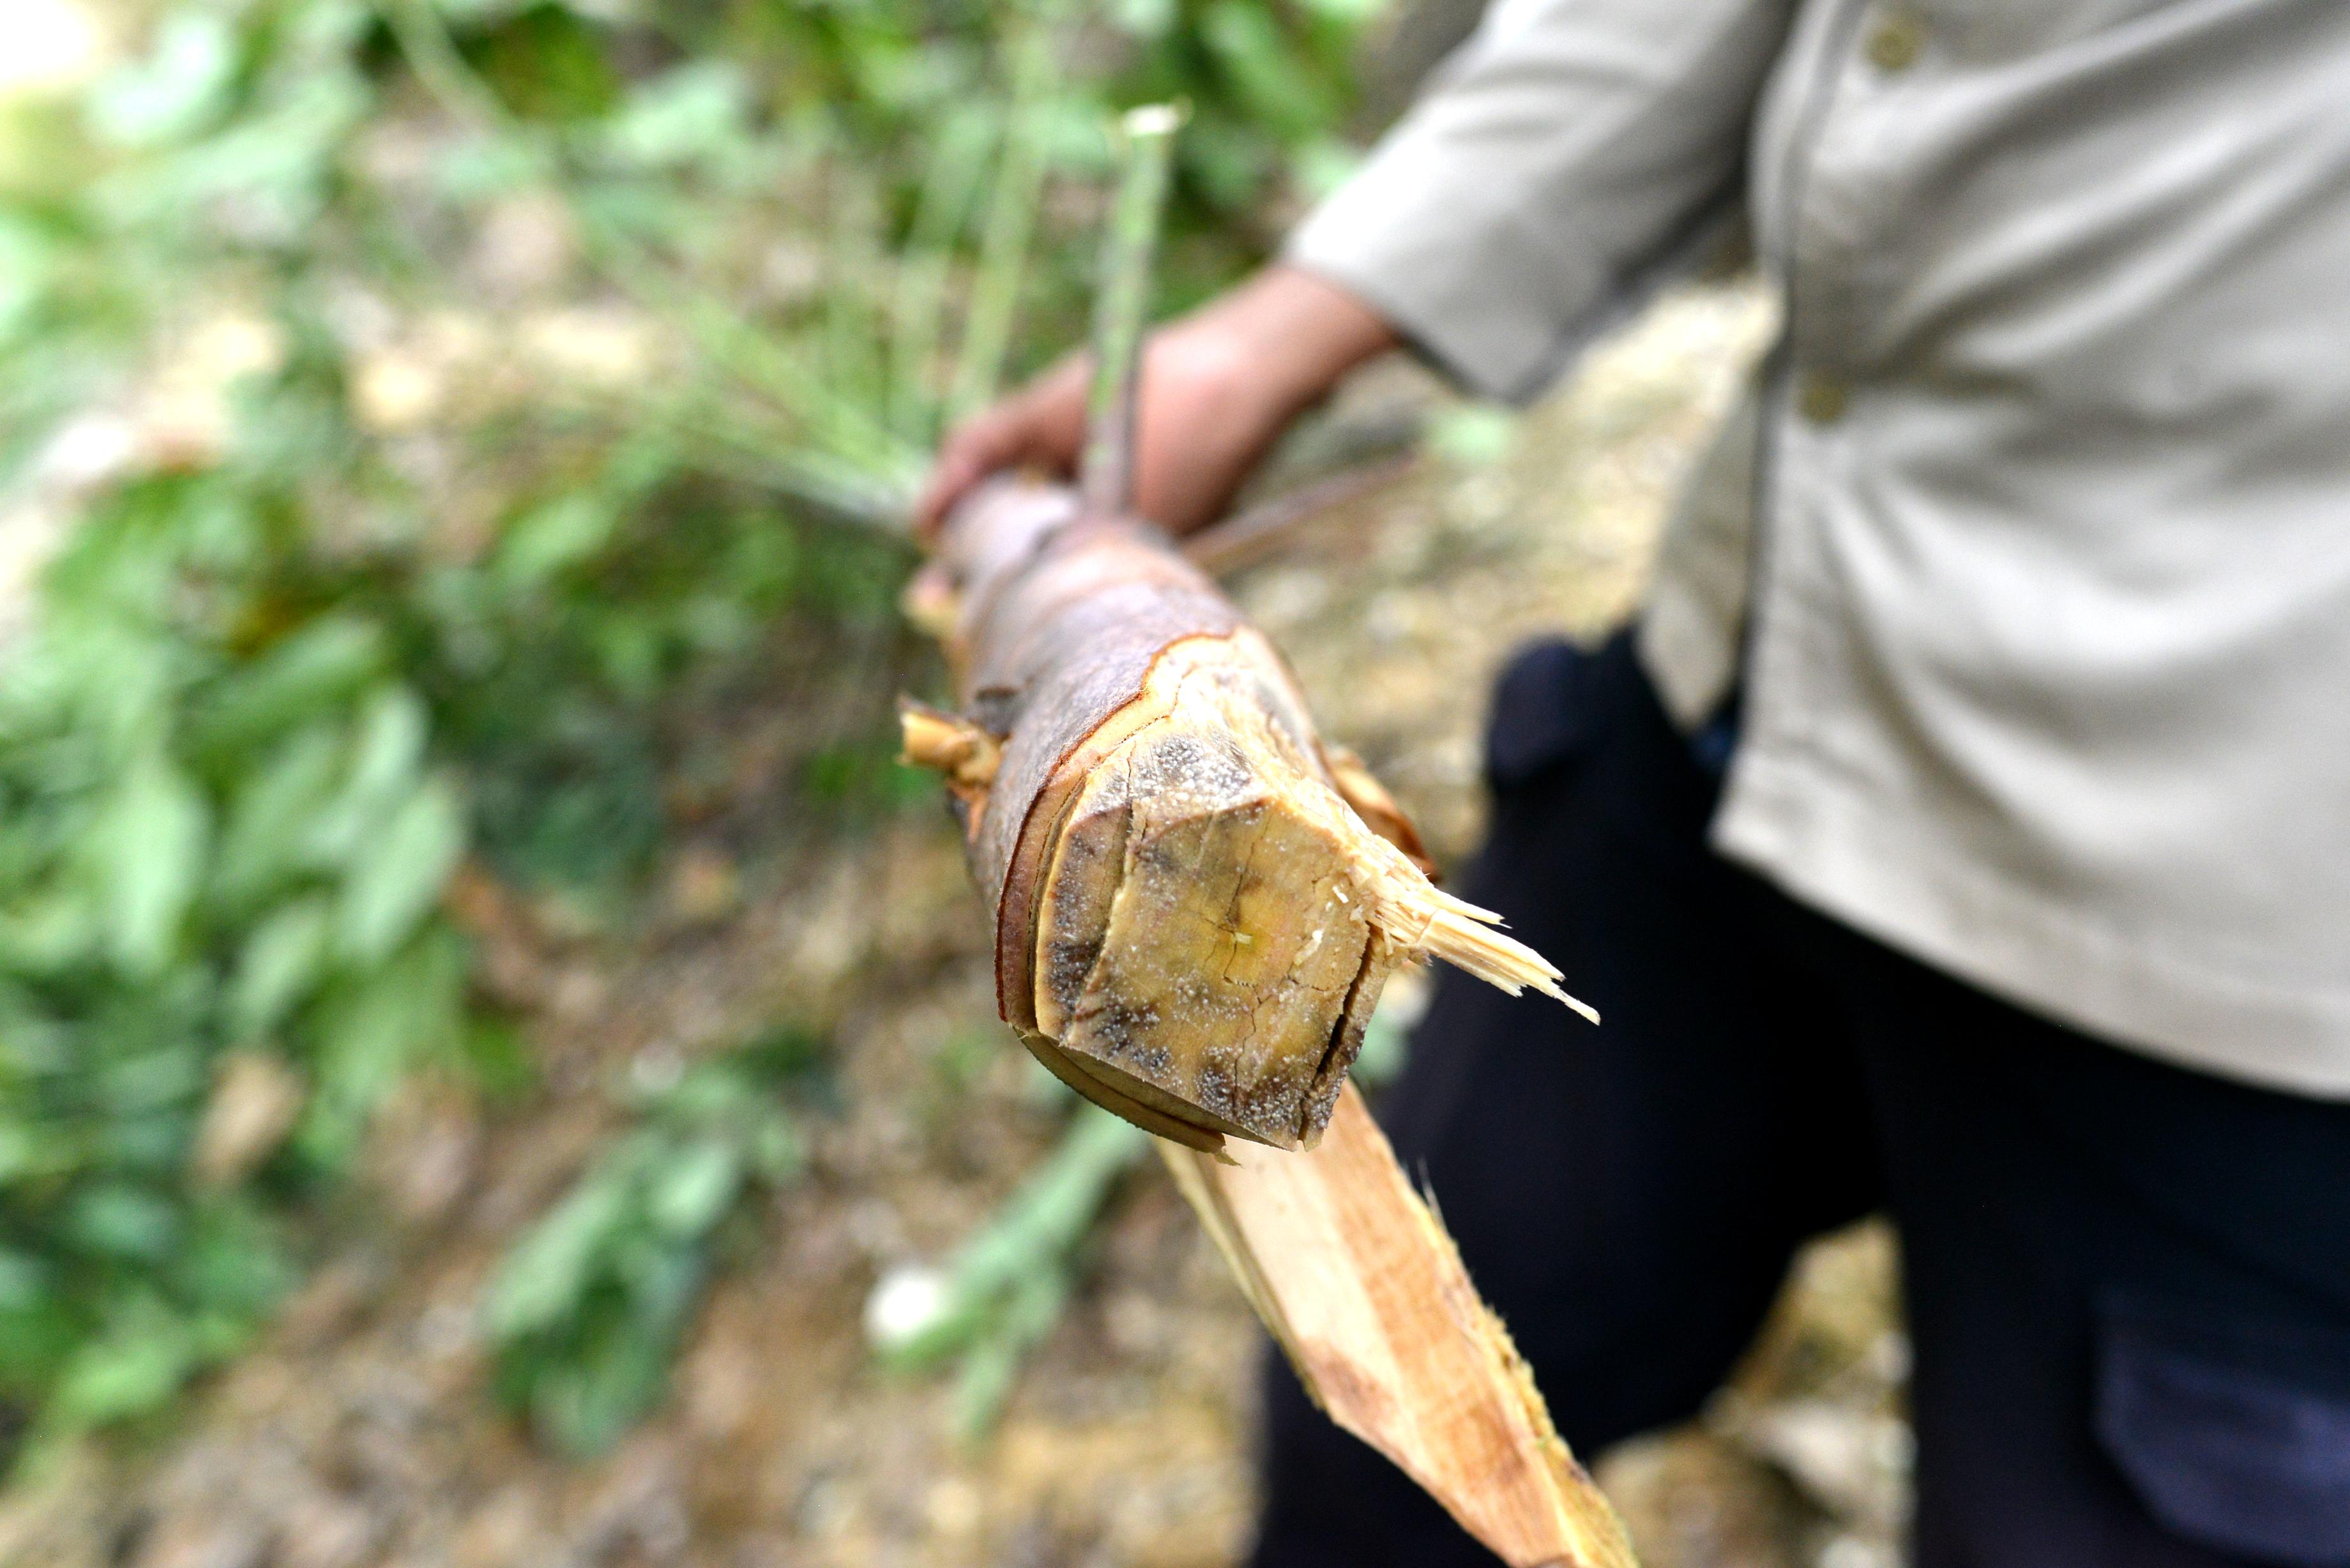Ralstonia: (1064, 714, 1328, 866), (1043, 875, 1178, 1104), (1127, 884, 1281, 1029), (1291, 877, 1402, 1038), (1199, 1043, 1363, 1141), (1207, 656, 1312, 770)
